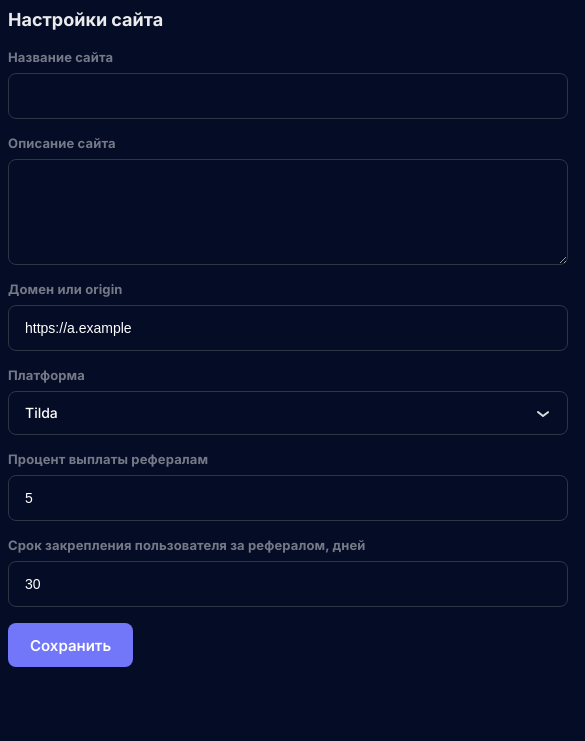
Test case: ProjectSettingsPage › shows error when save fails
Click the button "Сохранить" at (71, 645), box x1=8 y1=623 x2=133 y2=667
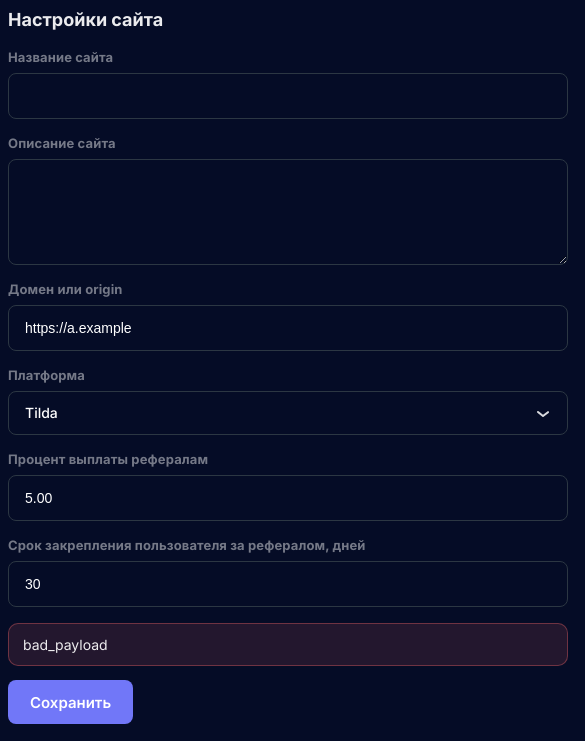
Now the text "bad_payload" is shown, box x1=8 y1=623 x2=568 y2=666
